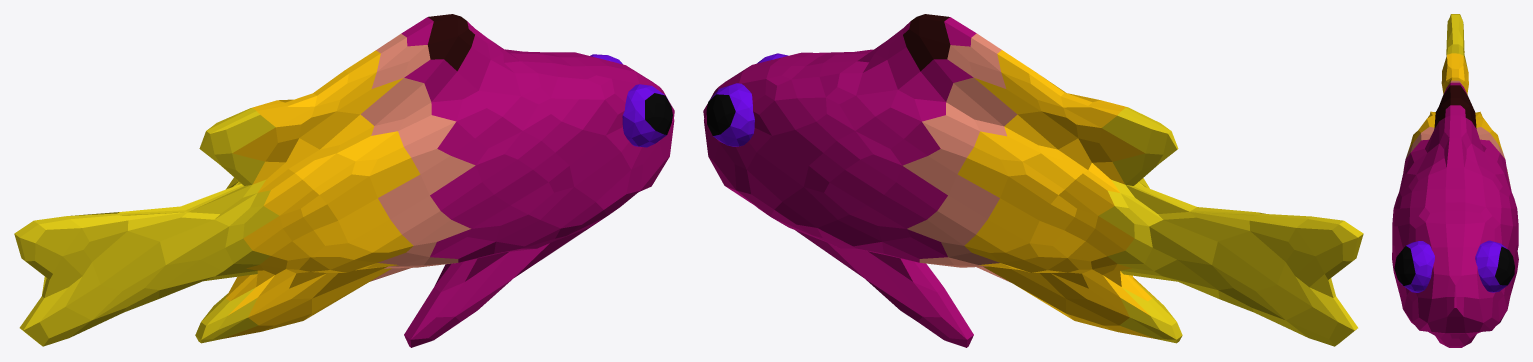
The model's file is ROYAL GRAMMA.fbx.
3 renders of one model, left to right at view 1: azimuth 30°, elevation 25°; view 2: azimuth 150°, elevation 25°; view 3: azimuth 270°, elevation 25°, orthographic. The views are drawn at different scales.
Visible parts, largest first — view 1: Cube.001; view 2: Cube.001; view 3: Cube.001.
Part boxes in pixels (left/top/right/bottom): Cube.001: left=14, top=14, right=674, bottom=347; Cube.001: left=703, top=14, right=1363, bottom=347; Cube.001: left=1392, top=14, right=1518, bottom=347.
Bounding box in the file's own units: 6.71 × 3.15 × 1.36.
